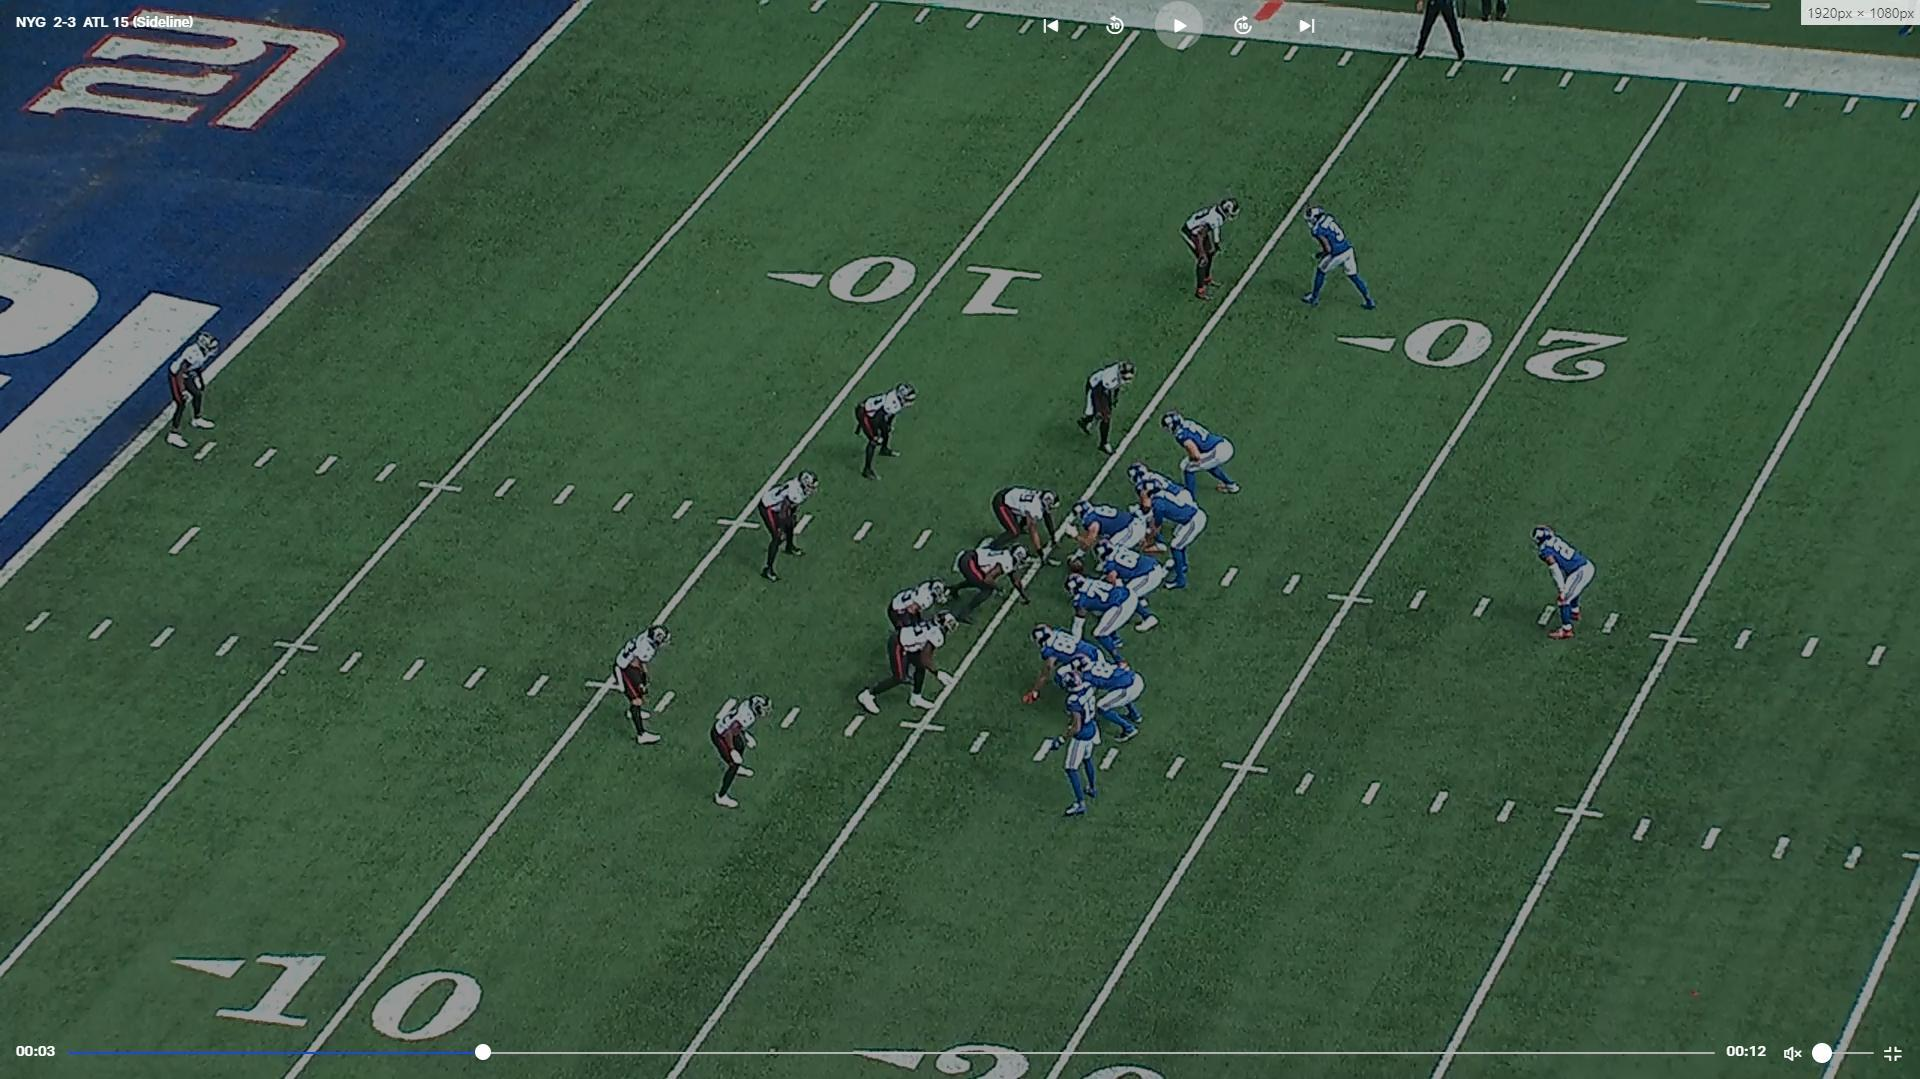player: (854, 607, 958, 722), (1305, 200, 1384, 315), (1530, 522, 1600, 644), (1137, 479, 1208, 594), (937, 544, 1034, 627), (757, 467, 823, 588), (1062, 656, 1145, 746), (1163, 411, 1243, 504), (1023, 622, 1106, 710), (612, 625, 669, 752), (1061, 572, 1136, 665), (852, 381, 919, 483), (710, 694, 766, 816), (1097, 541, 1168, 637), (1071, 358, 1137, 461), (165, 332, 222, 451), (1179, 195, 1239, 307), (1129, 460, 1206, 544), (986, 485, 1066, 562), (1058, 670, 1100, 815), (1065, 499, 1147, 566), (886, 580, 952, 632)
ref: (1403, 0, 1468, 62)
